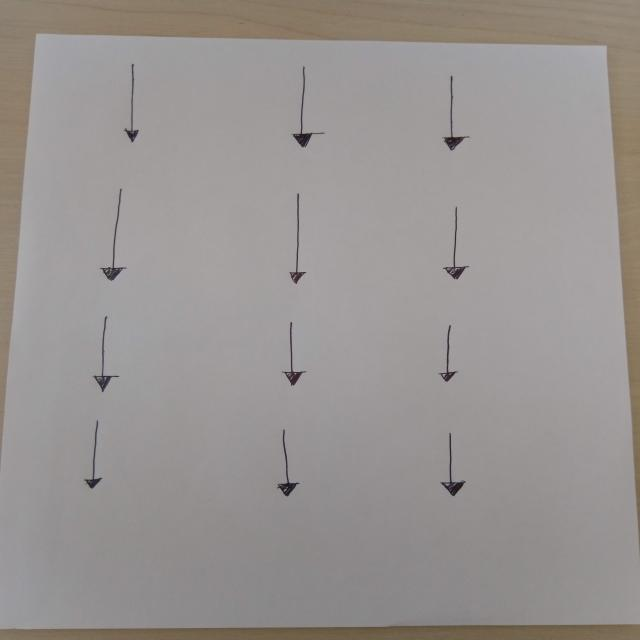arrow_line_down: (109, 58, 159, 147), (92, 187, 136, 283), (276, 192, 317, 290), (284, 60, 325, 152), (88, 317, 136, 393), (79, 416, 122, 496), (440, 200, 480, 284), (436, 426, 478, 506), (269, 428, 317, 495), (274, 316, 311, 396), (434, 78, 469, 157), (431, 324, 472, 390)
